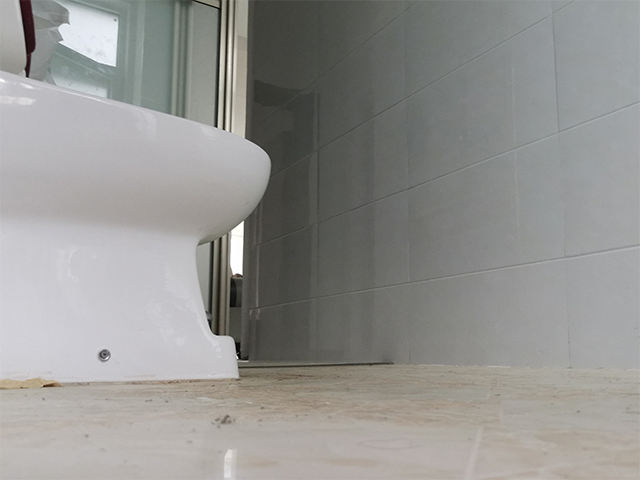closestool: (1, 1, 275, 388)
